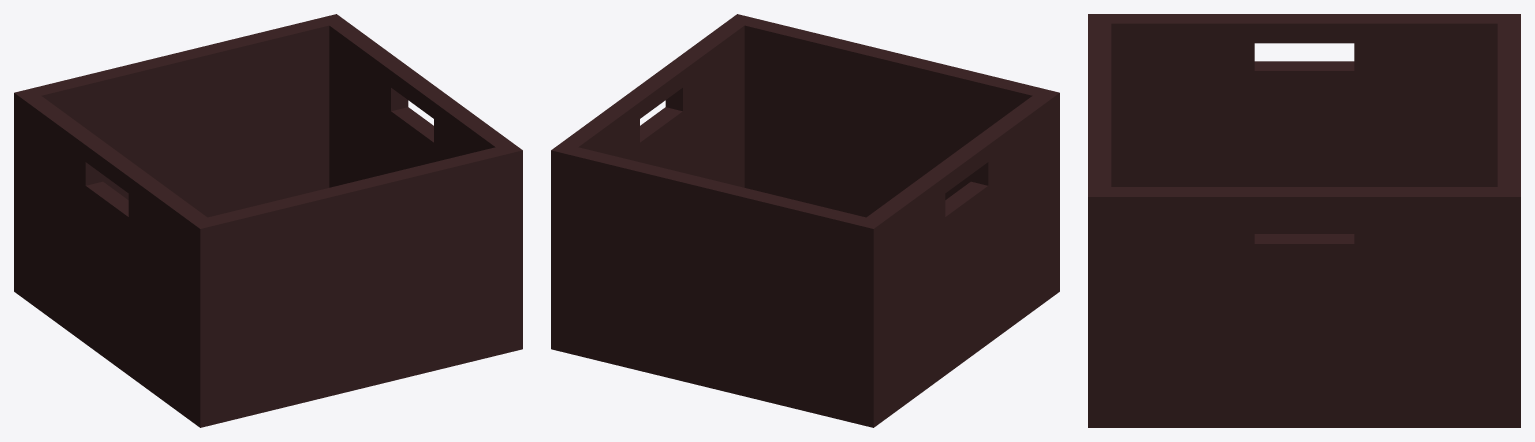
3 views of the same model, side by side, from view 1: azimuth 30°, elevation 25°; view 2: azimuth 150°, elevation 25°; view 3: azimuth 270°, elevation 25° (orthographic). The views are drawn at different scales.
Parts seen in each view (by area): view 1: Box_4; view 2: Box_4; view 3: Box_4.
Boxes of the visible parts, x1,y1,x2,y2 form: Box_4: (14,14,522,427); Box_4: (551,14,1059,427); Box_4: (1088,14,1520,427).
Bounding box in the file's own units: 0.7418 × 0.4371 × 0.7418.
1 material, 1 textured.
